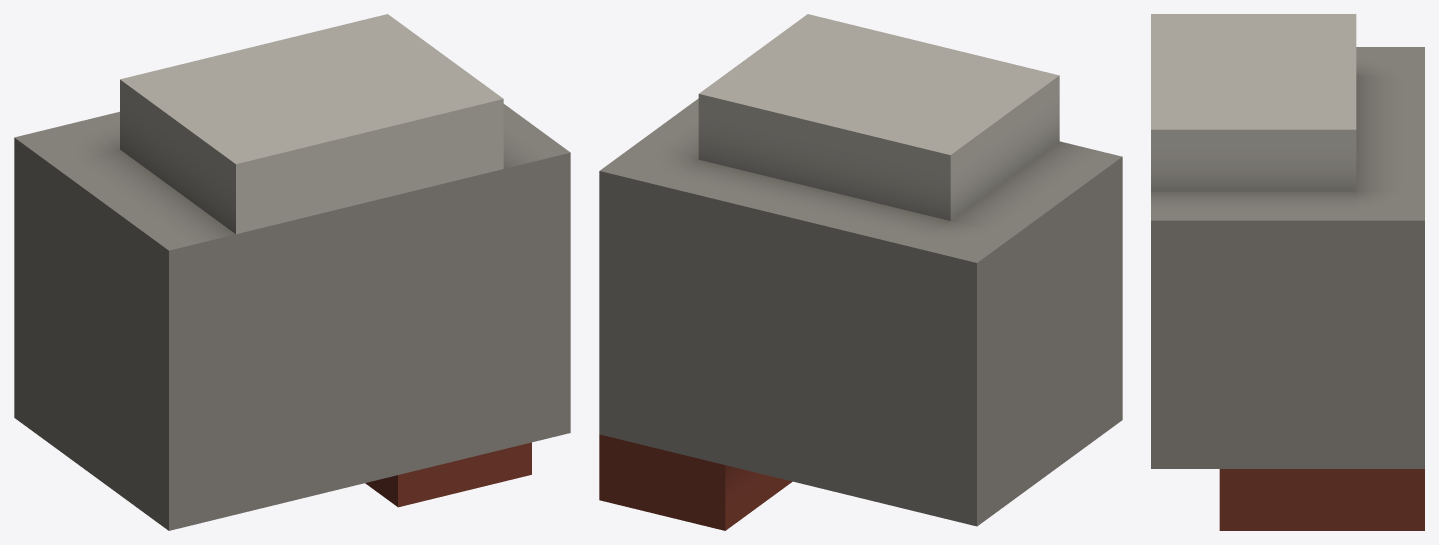
Rendered from cm_chunk_c.glb.
3 views of the same model, side by side, from view 1: azimuth 30°, elevation 25°; view 2: azimuth 150°, elevation 25°; view 3: azimuth 270°, elevation 25° (orthographic). The views are drawn at different scales.
Parts seen in each view (by area): view 1: cm_chunk_c_body; view 2: cm_chunk_c_body; view 3: cm_chunk_c_body.
Boxes of the visible parts, x1,y1,x2,y2 form: cm_chunk_c_body: [14, 14, 570, 530]; cm_chunk_c_body: [599, 14, 1122, 530]; cm_chunk_c_body: [1151, 14, 1424, 530].
Size of the model in its own units: 0.375 by 0.375 by 0.25.
Materials: 1 (1 with a texture image).
